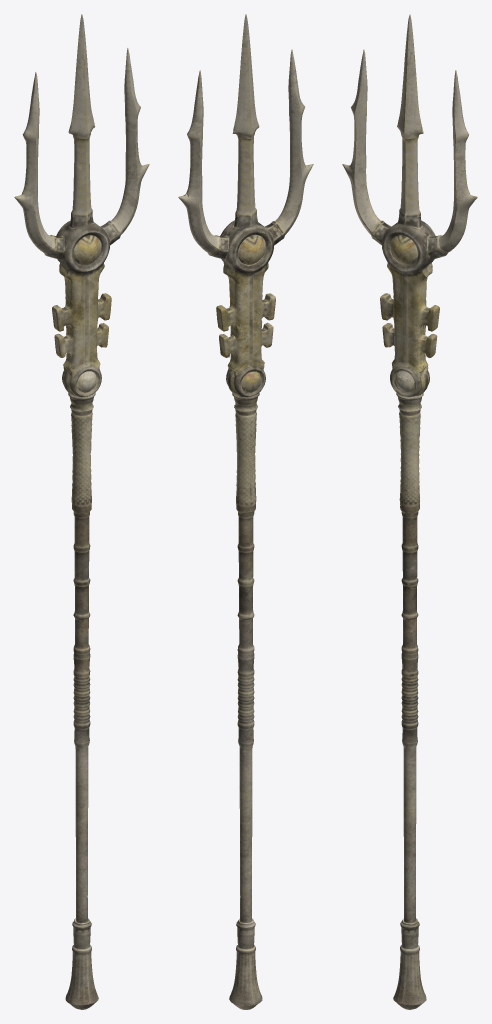
File: poseidons-trident-lowpoly-v3.gltf
The picture shows the model from 3 angles, left to right: view 1: azimuth 30°, elevation 25°; view 2: azimuth 210°, elevation 25°; view 3: azimuth 330°, elevation 25°; orthographic projection.
Parts seen in each view (by area): view 1: _gltfNode_0, _gltfNode_1; view 2: _gltfNode_1, _gltfNode_0; view 3: _gltfNode_0, _gltfNode_1.
Boxes of the visible parts, box(x1,y1,x2,y2) form: _gltfNode_0: box(14, 14, 149, 1009); _gltfNode_1: box(43, 137, 122, 749); _gltfNode_1: box(207, 136, 286, 751); _gltfNode_0: box(178, 14, 313, 1009); _gltfNode_0: box(342, 14, 477, 1009); _gltfNode_1: box(368, 137, 448, 749).
Size of the model in its own units: 8.63 by 60.6 by 2.08.
Materials: 1 (1 with a texture image).
